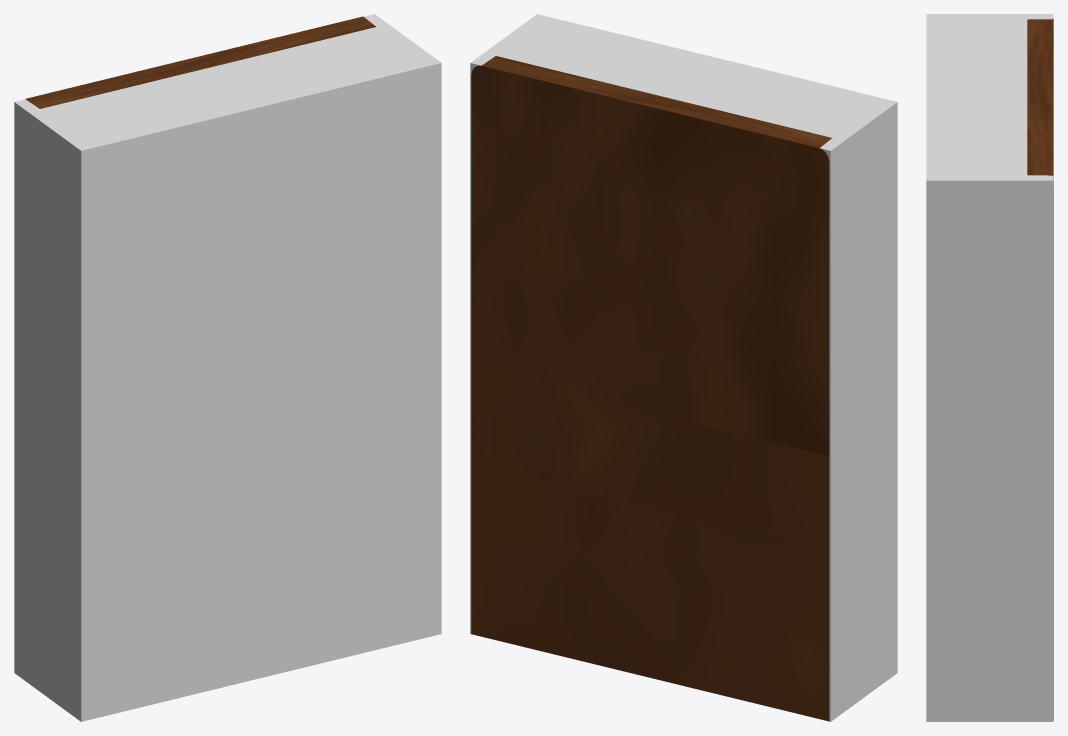
File: BookShelf.gltf
3 renders of one model, left to right at view 1: azimuth 30°, elevation 25°; view 2: azimuth 150°, elevation 25°; view 3: azimuth 270°, elevation 25°, orthographic. The views are drawn at different scales.
Visible parts, largest first — view 1: COL, Cube; view 2: Cube, COL; view 3: COL, Cube.
Part boxes in pixels (<box>): COL: <box>14,14,441,721</box>; Cube: <box>25,16,375,108</box>; Cube: <box>471,56,831,721</box>; COL: <box>470,14,897,721</box>; COL: <box>926,14,1053,721</box>; Cube: <box>1027,18,1053,720</box>.
Bounding box in the file's own units: 1.56 × 2.37 × 0.5046.
1 material, 1 textured.
